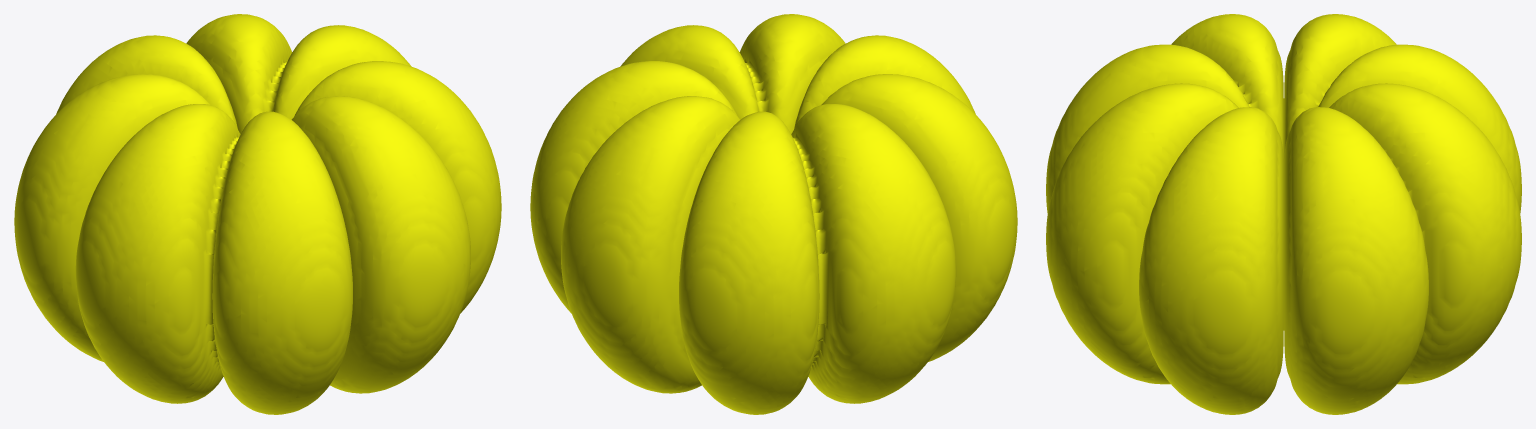
File: orb_n=7_ l=4 _m=-4.fbx
The picture shows the model from 3 angles, left to right: view 1: azimuth 30°, elevation 25°; view 2: azimuth 150°, elevation 25°; view 3: azimuth 270°, elevation 25°; orthographic projection.
Visible parts, largest first — view 1: orb_n=7_ l=4 _m=-4; view 2: orb_n=7_ l=4 _m=-4; view 3: orb_n=7_ l=4 _m=-4.
Boxes of the visible parts, <box> form: orb_n=7_ l=4 _m=-4: <box>14,14,501,414</box>; orb_n=7_ l=4 _m=-4: <box>530,14,1017,414</box>; orb_n=7_ l=4 _m=-4: <box>1046,14,1521,414</box>.
Bounding box in the file's own units: 24646 × 16654 × 24646.
